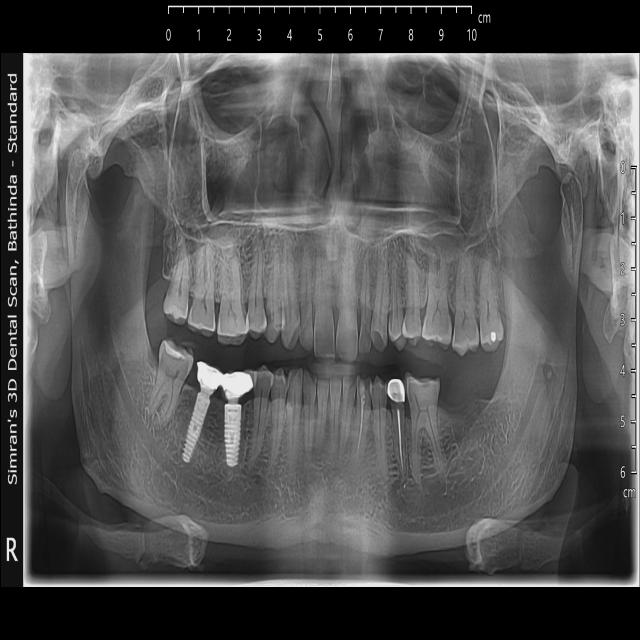Caries: (265, 297, 273, 331)
Crown: (220, 371, 254, 402), (195, 362, 221, 392), (387, 379, 404, 402)
Filling: (164, 341, 183, 361), (489, 330, 496, 344)
Implant: (181, 392, 212, 467), (224, 402, 242, 468)
Mandibular Canal: (103, 314, 262, 504), (388, 356, 545, 519)
Missing teeth: (437, 377, 485, 416)
Root Canal Treatment: (396, 410, 403, 476)
maxillary sinus: (359, 92, 503, 264), (170, 90, 313, 245)
